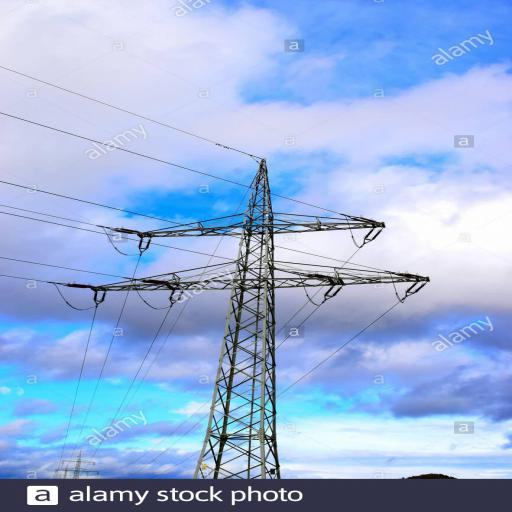ss_2: (86, 157, 433, 478)
